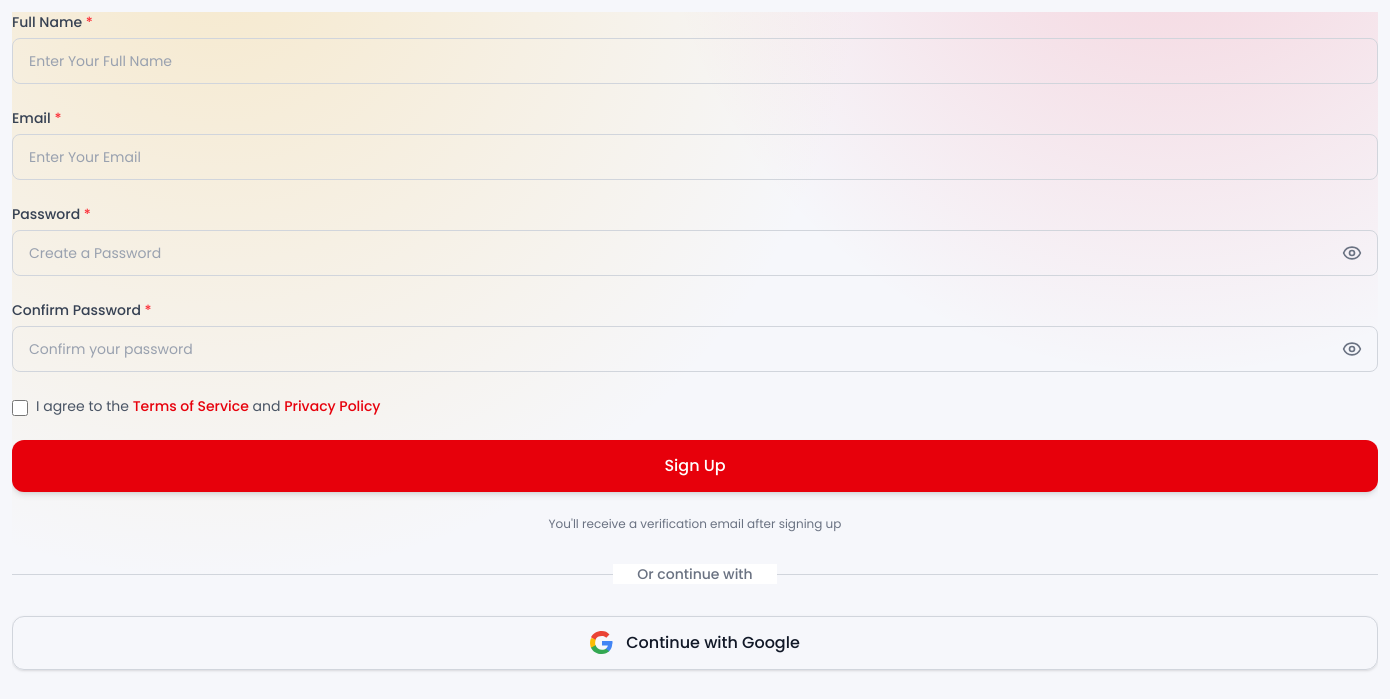
Test: SignupForm › shows validation error for weak password
In the field with placeholder "Enter Your Full Name": (695, 61) [12,38,1378,84], type "Test User"
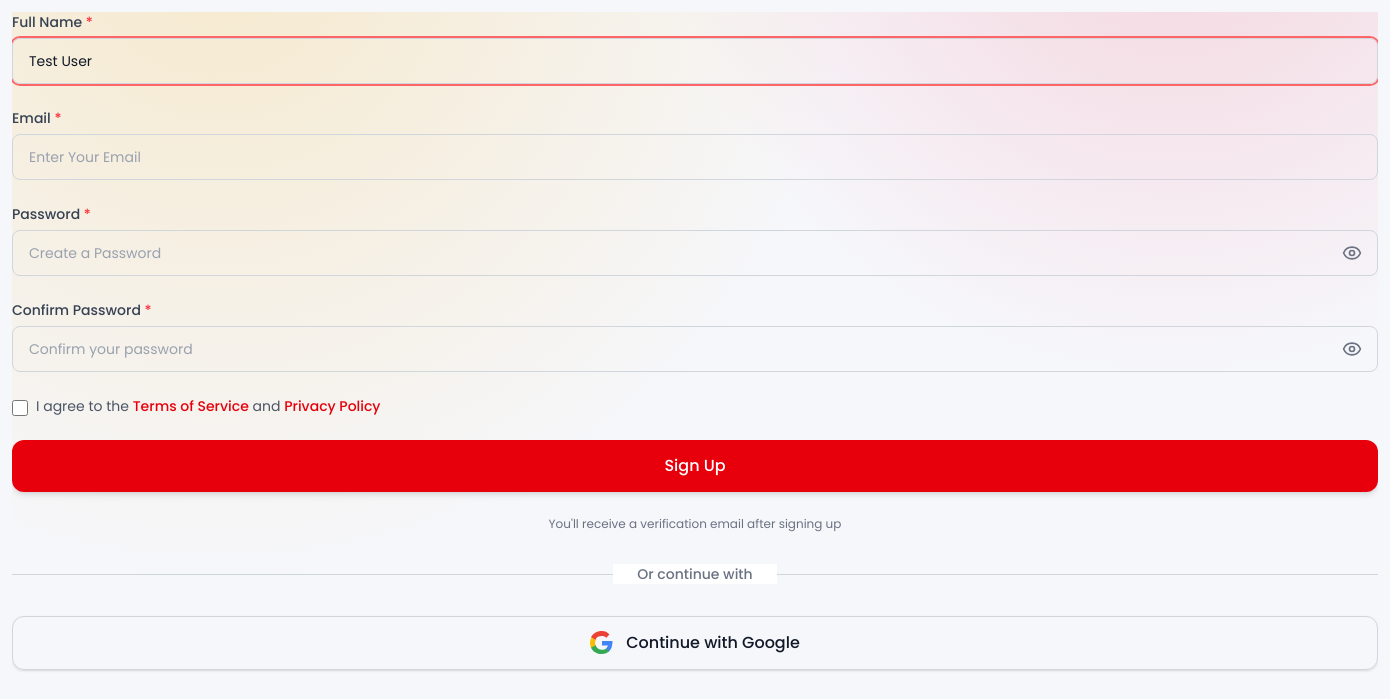
In the field with placeholder "Enter Your Email": (695, 157) [12,134,1378,180], type "test@test.com"
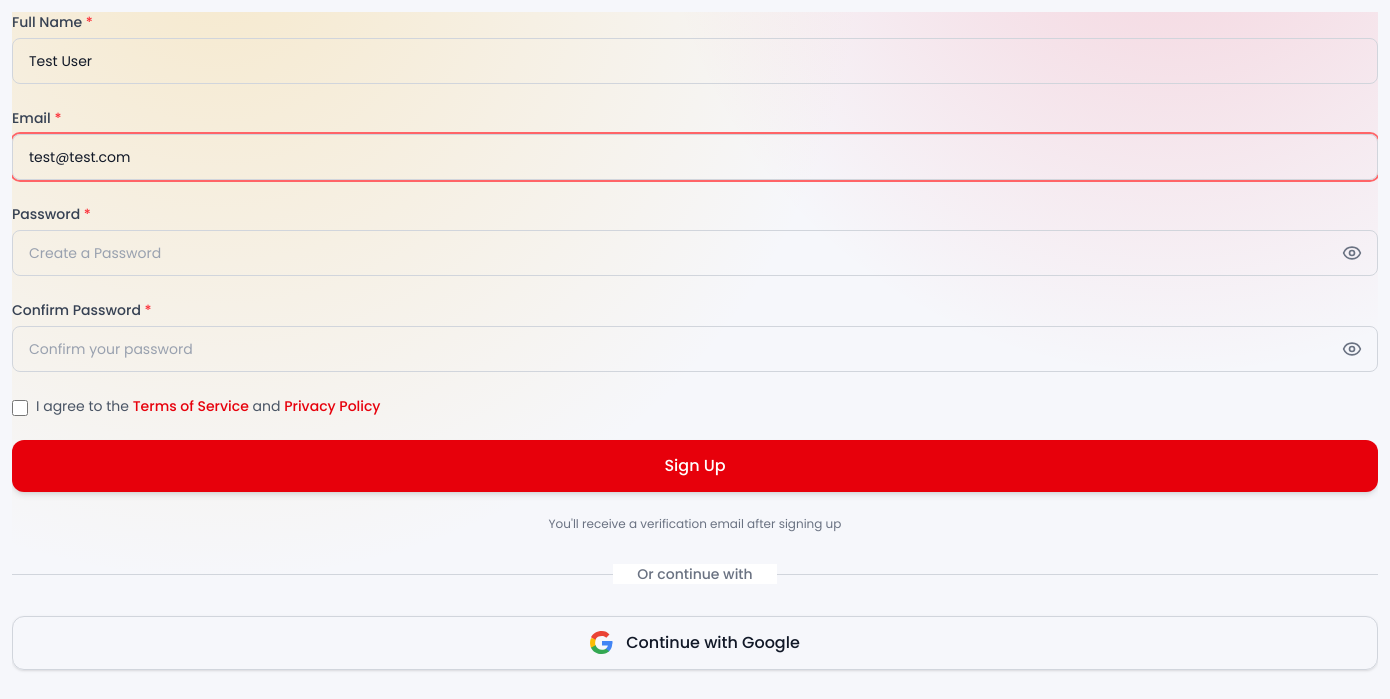
In the password field with placeholder "Create a Password": (695, 253) [12,230,1378,276], type "weak"
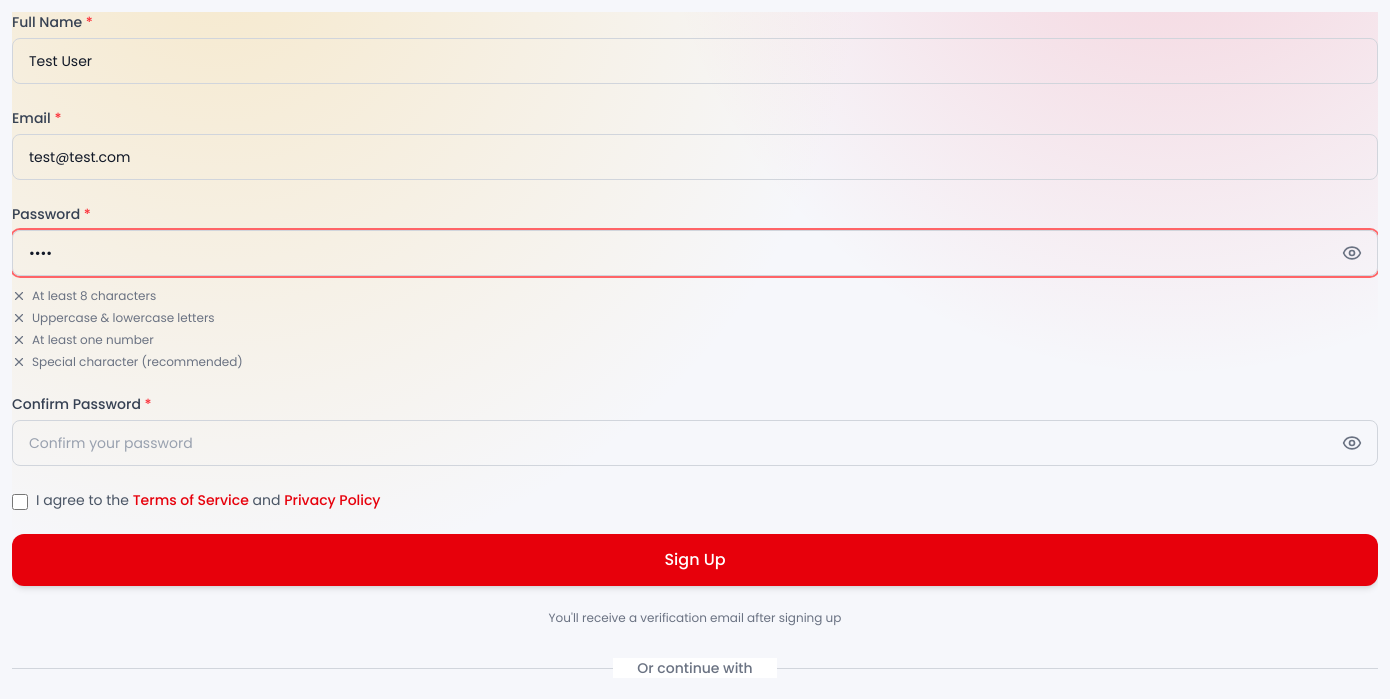
In the password field with placeholder "Confirm your password": (695, 443) [12,420,1378,466], type "weak"
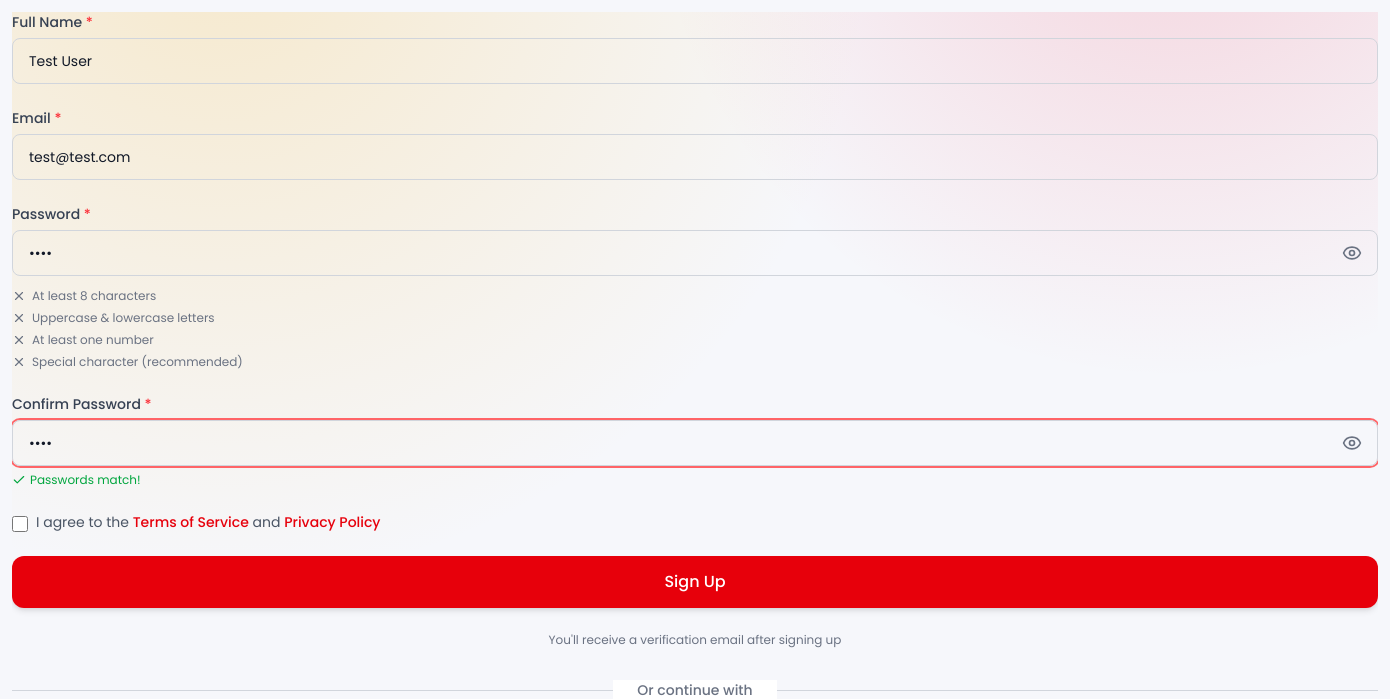
Click the button "Sign Up": (695, 582) [12,556,1378,608]
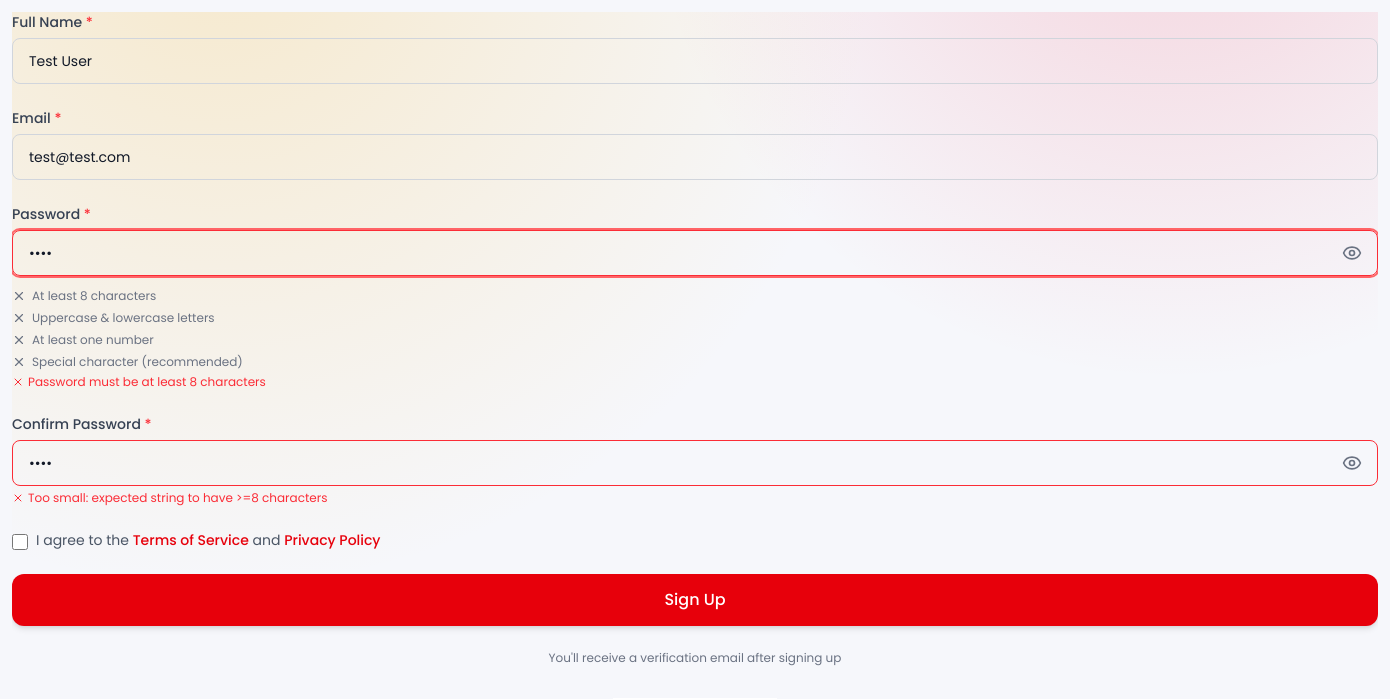
Now the text "Password must be at least 8 characters" is shown, box [12,373,266,390]
